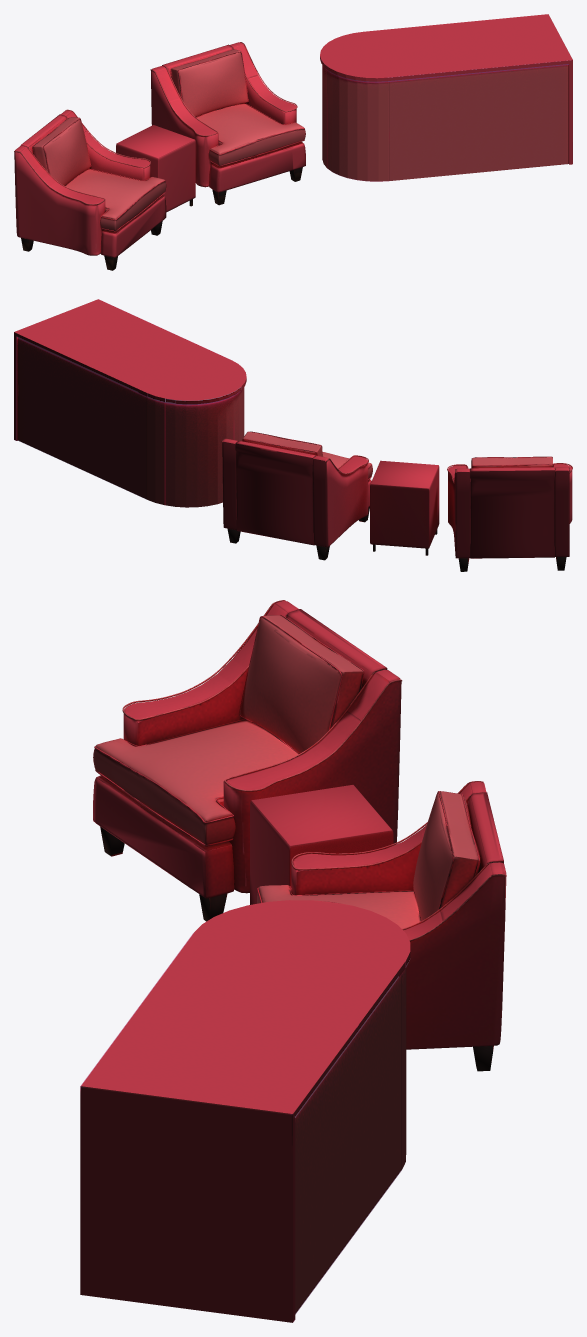
The model's file is desk.obj.
The picture shows the model from 3 angles, top to bottom: view 1: azimuth 30°, elevation 25°; view 2: azimuth 150°, elevation 25°; view 3: azimuth 270°, elevation 25°; orthographic projection. The views are drawn at different scales.
Parts seen in each view (by area): view 1: Table_Cube.001, Chair_2_Arms.001_Cube.002, Chair_1_Frame.001_Cube.004, Side_Table_Coffee_Table_Legs.001_Cube.014, Table.001_Cube.000; view 2: Table_Cube.001, Chair_1_Frame.001_Cube.004, Chair_2_Arms.001_Cube.002, Side_Table_Coffee_Table_Legs.001_Cube.014; view 3: Table_Cube.001, Chair_2_Arms.001_Cube.002, Chair_1_Frame.001_Cube.004, Side_Table_Coffee_Table_Legs.001_Cube.014.
Part boxes in pixels (x1,y1,x2,y2): Table_Cube.001: [320, 14, 572, 181]; Chair_2_Arms.001_Cube.002: [14, 109, 166, 270]; Chair_1_Frame.001_Cube.004: [150, 42, 305, 205]; Side_Table_Coffee_Table_Legs.001_Cube.014: [116, 125, 195, 212]; Table.001_Cube.000: [326, 64, 568, 82]; Table_Cube.001: [14, 299, 246, 507]; Chair_1_Frame.001_Cube.004: [221, 431, 372, 560]; Chair_2_Arms.001_Cube.002: [447, 456, 572, 571]; Side_Table_Coffee_Table_Legs.001_Cube.014: [370, 460, 439, 555]; Table_Cube.001: [80, 900, 410, 1322]; Chair_2_Arms.001_Cube.002: [93, 600, 402, 921]; Chair_1_Frame.001_Cube.004: [257, 781, 506, 1071]; Side_Table_Coffee_Table_Legs.001_Cube.014: [250, 785, 393, 904].
Bounding box in the file's own units: 11.13 × 2.07 × 3.83.
